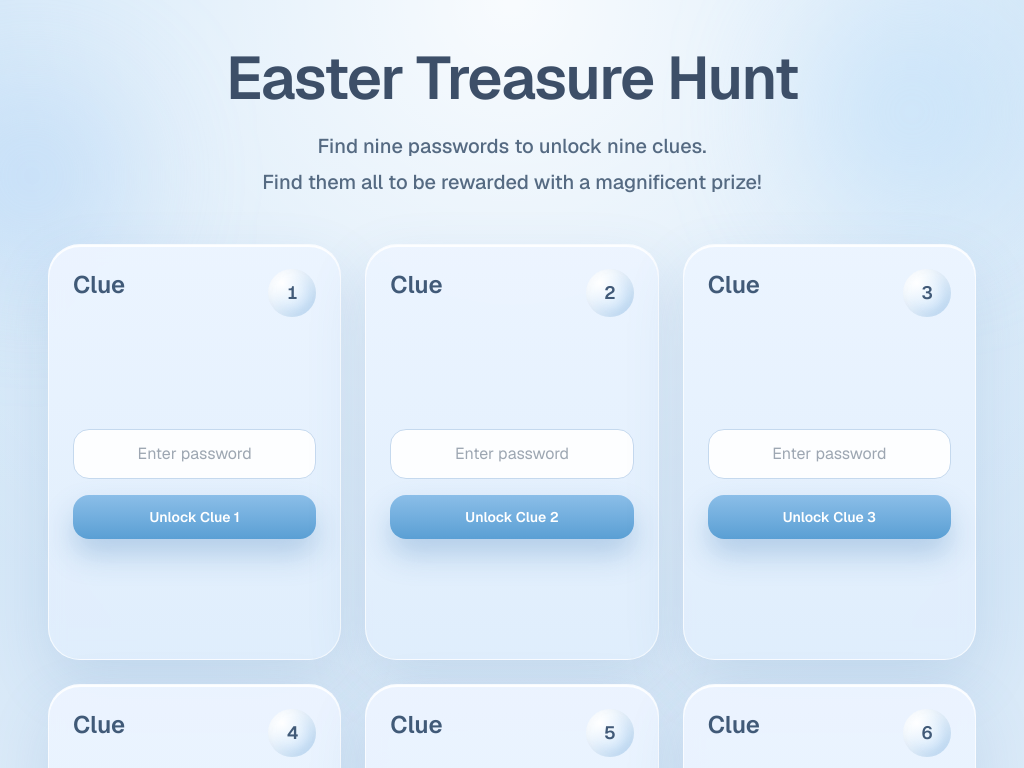
Test: Easter Treasure Hunt page › keeps a card locked when the password is wrong
Expected: the element "Clue 2" is shown, [365, 244, 659, 660]
Type "wrong" into the 2nd field with placeholder "Enter password" at (512, 454), box [390, 429, 634, 479]
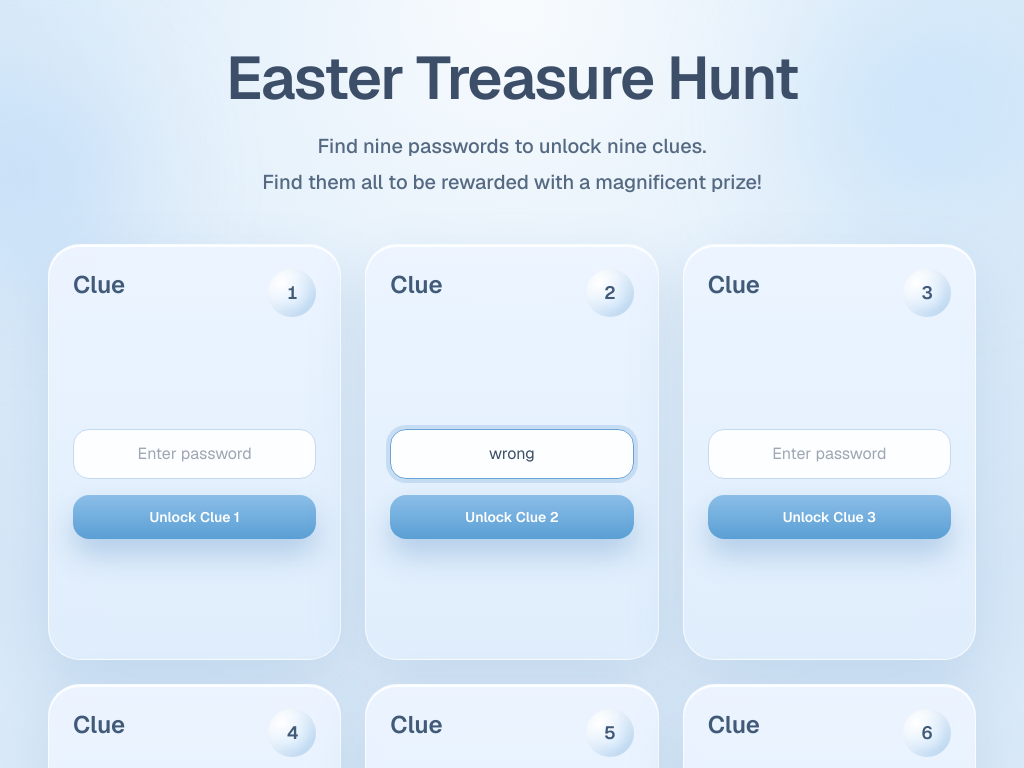
Click the button "Unlock Clue 2" at (512, 517), box [390, 495, 634, 539]
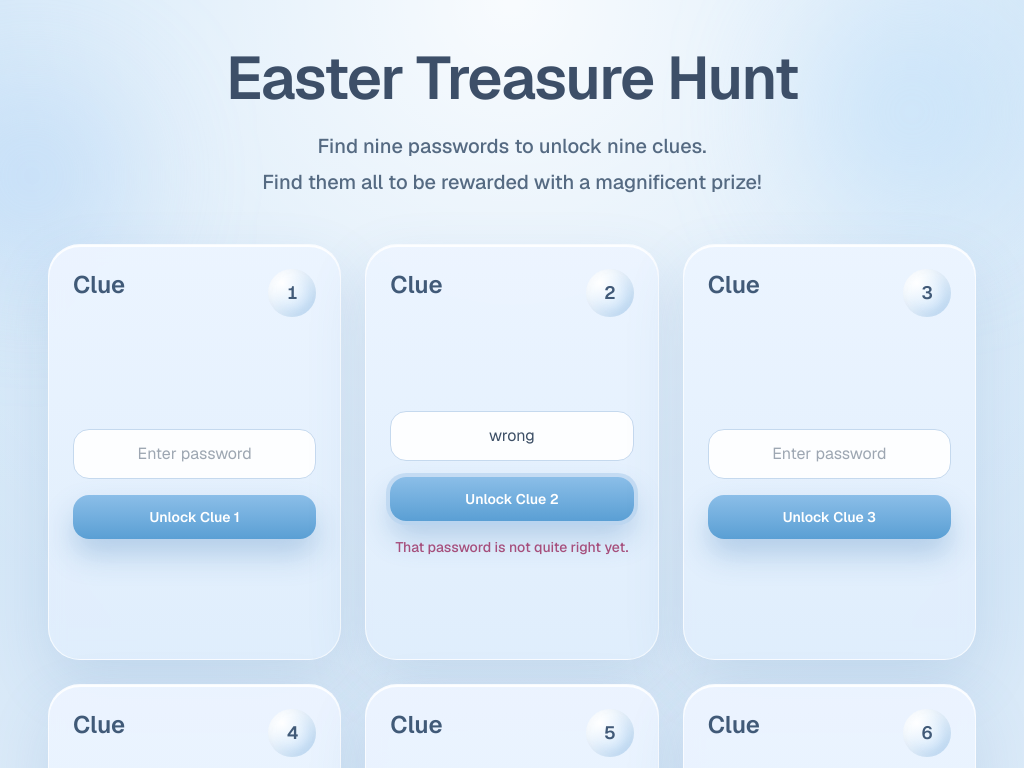
Expected: the text "That password is not quite right yet." is shown, [390, 537, 634, 557]
